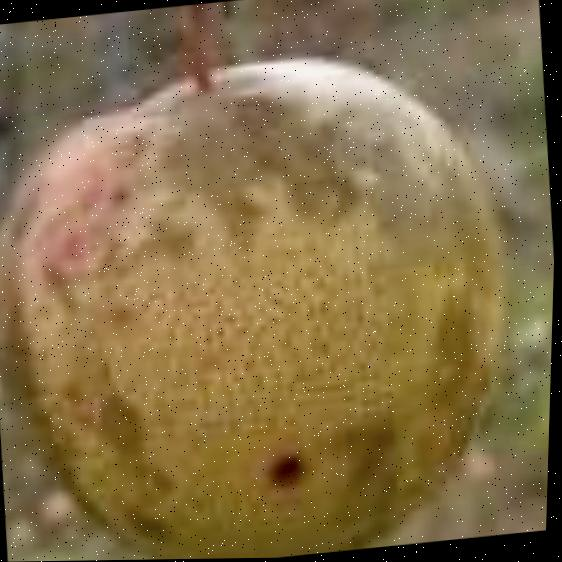BLOTCH: (0, 18, 561, 562)
